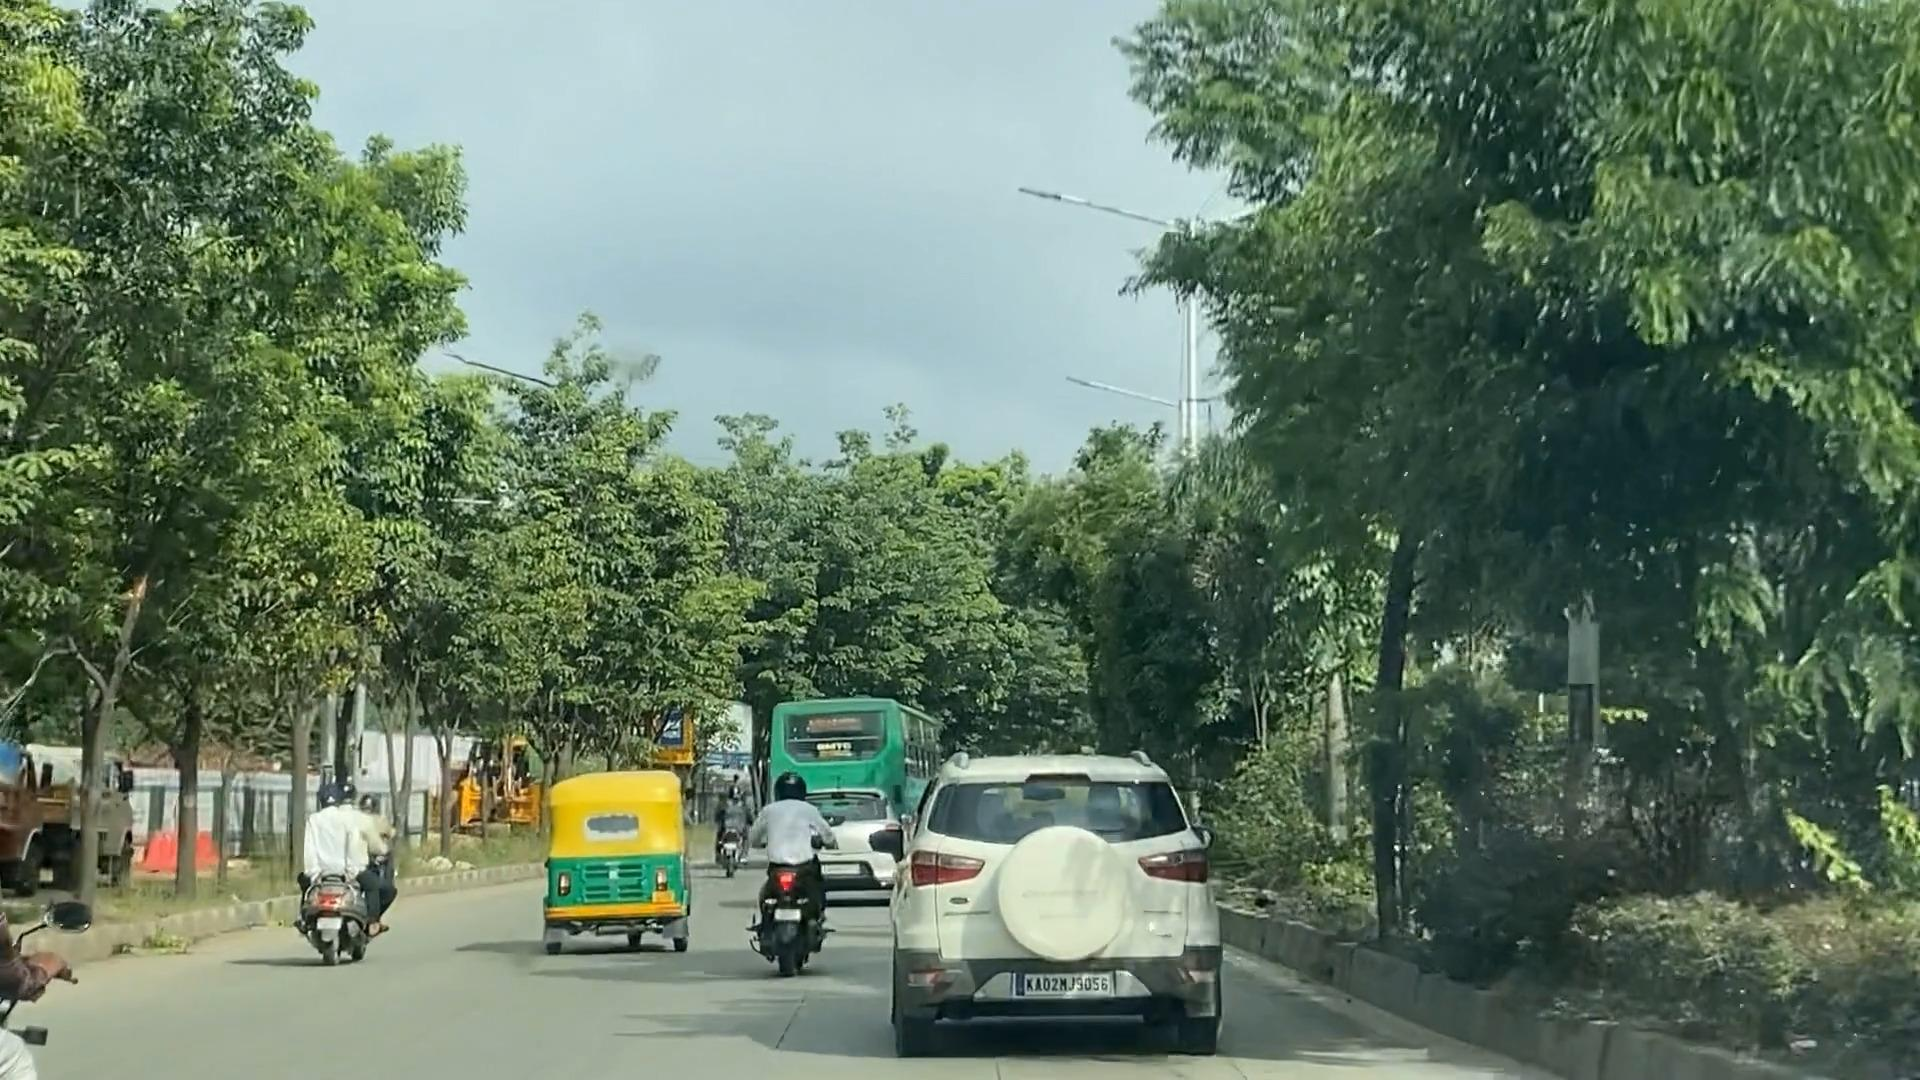LMV: (881, 725, 1246, 1065), (700, 717, 853, 1029), (253, 699, 409, 1000), (526, 733, 694, 953), (777, 761, 927, 924)
